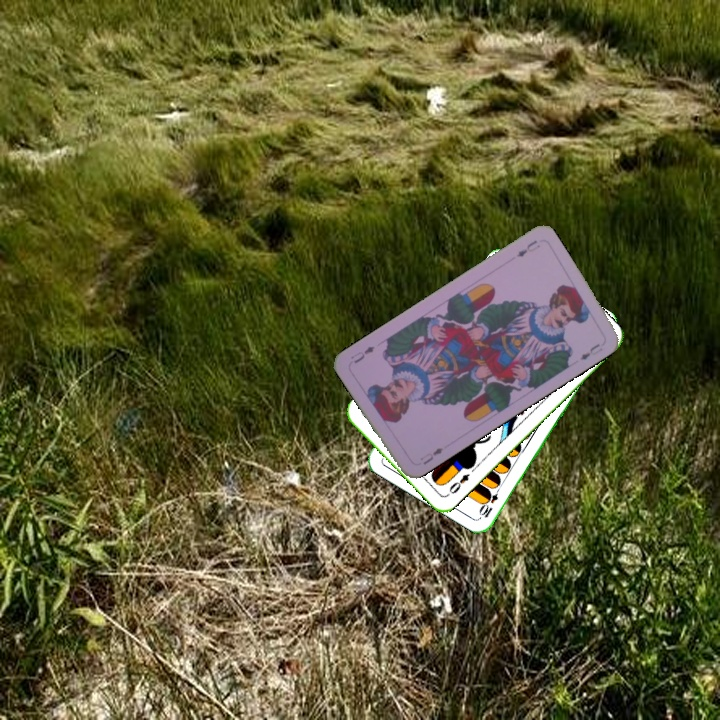E10: (476, 482, 503, 520)
EO: (445, 469, 472, 496)
EU: (512, 236, 543, 260), (416, 443, 446, 467)
